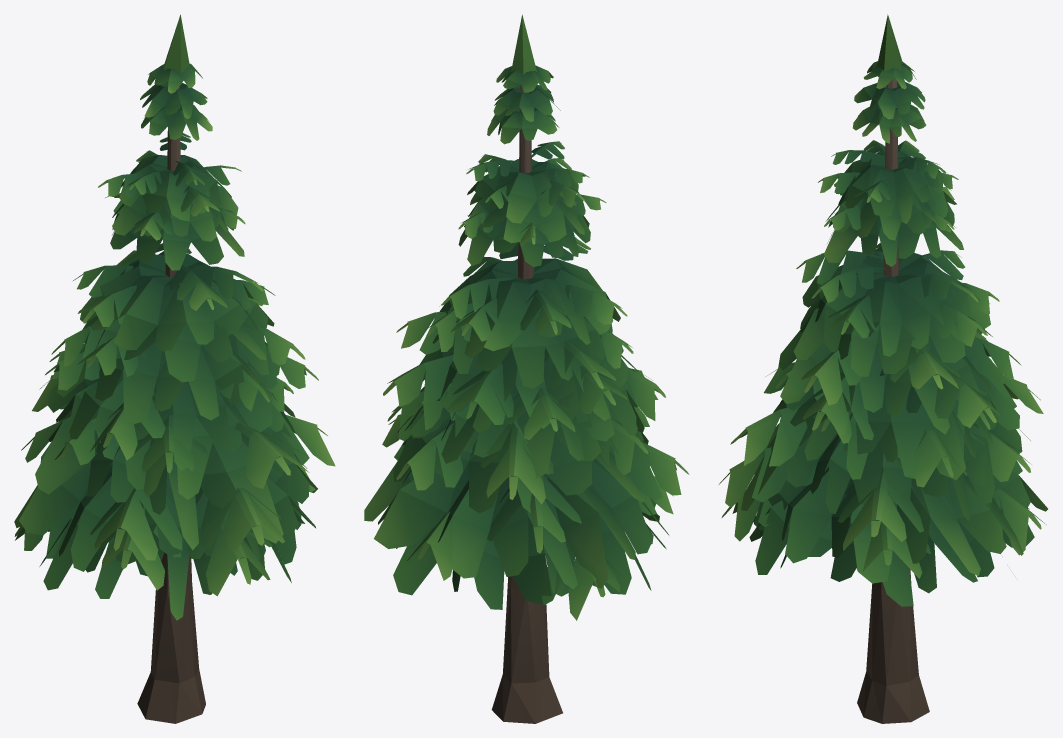
Rendered from spruce_M_normal_long_gapped_s26.glb.
3 views of the same model, side by side, from view 1: azimuth 30°, elevation 25°; view 2: azimuth 150°, elevation 25°; view 3: azimuth 270°, elevation 25° (orthographic).
Parts seen in each view (by area): view 1: Tree; view 2: Tree; view 3: Tree.
Boxes of the visible parts, x1,y1,x2,y2 form: Tree: (14, 14, 335, 723); Tree: (364, 14, 689, 723); Tree: (719, 14, 1047, 723).
Size of what is drawn, in the model's own units: 2.99 by 7.21 by 3.09.
